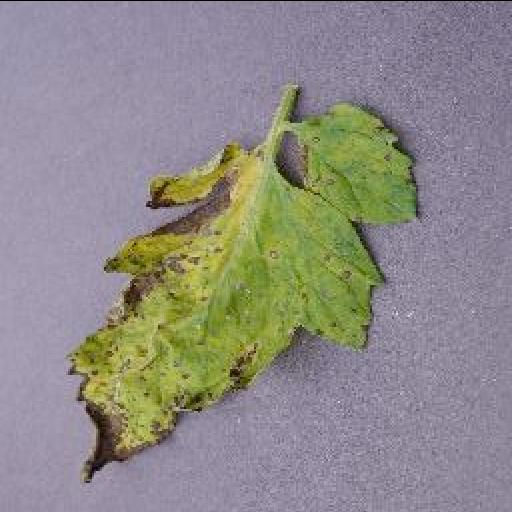disease_tomato: (68, 101, 418, 481)
